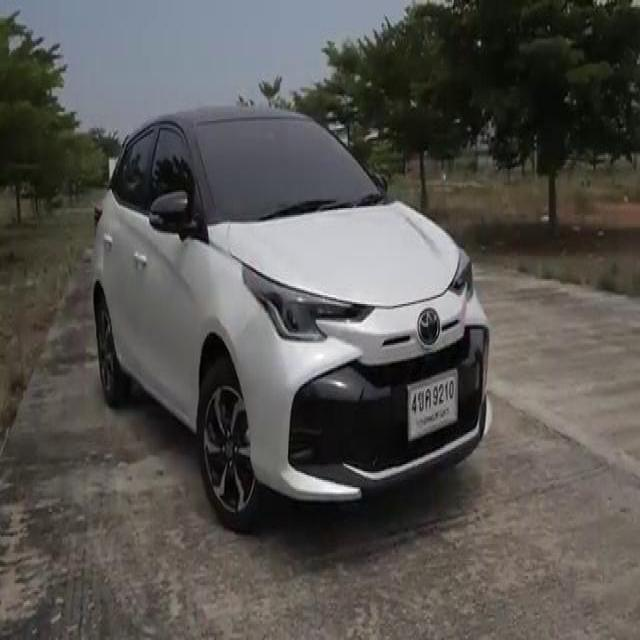Hatchback: (92, 107, 491, 530)
